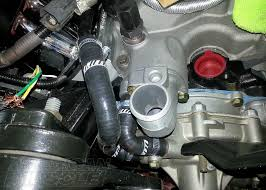radiator_hose: (78, 35, 119, 157), (118, 100, 164, 155)
